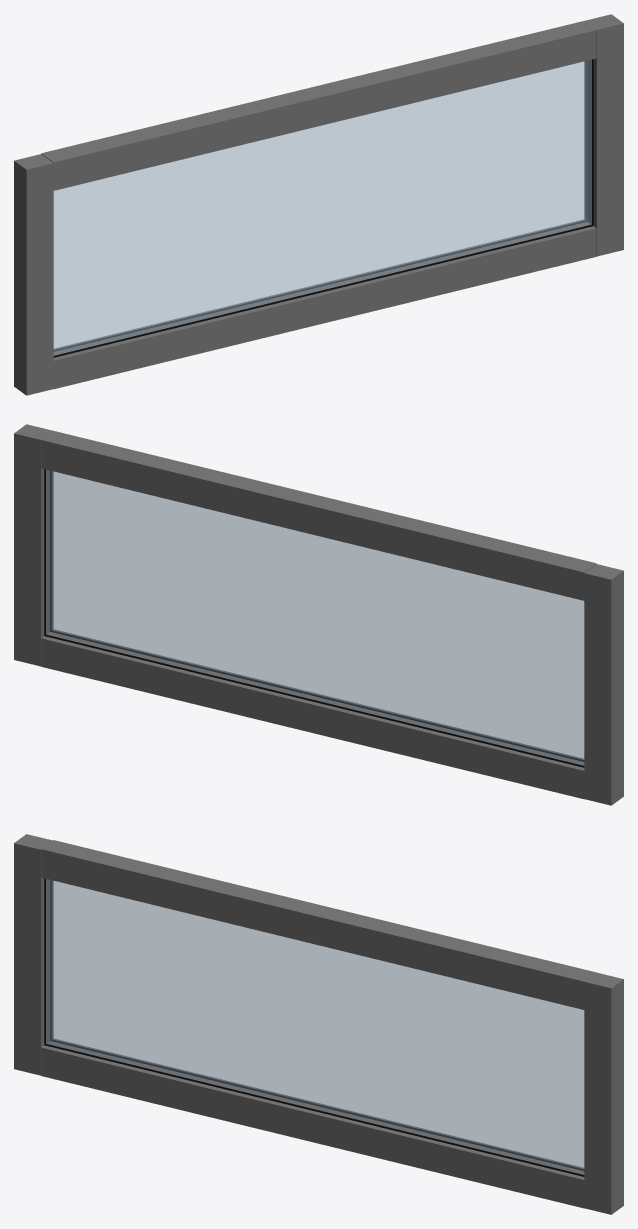
File: glass_wall.fbx
The picture shows the model from 3 angles, top to bottom: view 1: azimuth 30°, elevation 25°; view 2: azimuth 150°, elevation 25°; view 3: azimuth 330°, elevation 25°; orthographic projection.
Parts seen in each view (by area): view 1: glass, top, top.001, top.003, top.002, Cylinder.004, Cylinder; view 2: glass, top, top.001, top.003, top.002, Cylinder, Cylinder.004; view 3: glass, top, top.001, top.002, top.003, Cylinder.004, Cylinder.
Boxes of the visible parts, box(x1,y1,x2,y2) form: glass: box(53, 60, 591, 355); top: box(41, 21, 596, 190); top.001: box(53, 219, 596, 388); top.003: box(14, 154, 53, 395); top.002: box(584, 14, 623, 256); Cylinder.004: box(53, 224, 592, 357); Cylinder: box(53, 220, 586, 351); glass: box(46, 470, 584, 765); top: box(41, 431, 596, 600); top.001: box(41, 629, 584, 798); top.003: box(584, 564, 623, 805); top.002: box(14, 424, 53, 666); Cylinder: box(45, 634, 584, 767); Cylinder.004: box(50, 630, 584, 761); glass: box(46, 879, 584, 1174); top: box(41, 840, 596, 1009); top.001: box(41, 1038, 584, 1208); top.002: box(584, 972, 623, 1214); top.003: box(14, 834, 53, 1075); Cylinder.004: box(45, 1044, 584, 1176); Cylinder: box(51, 1039, 584, 1170).
Bounding box in the file's own units: 2200 × 798 × 80.
